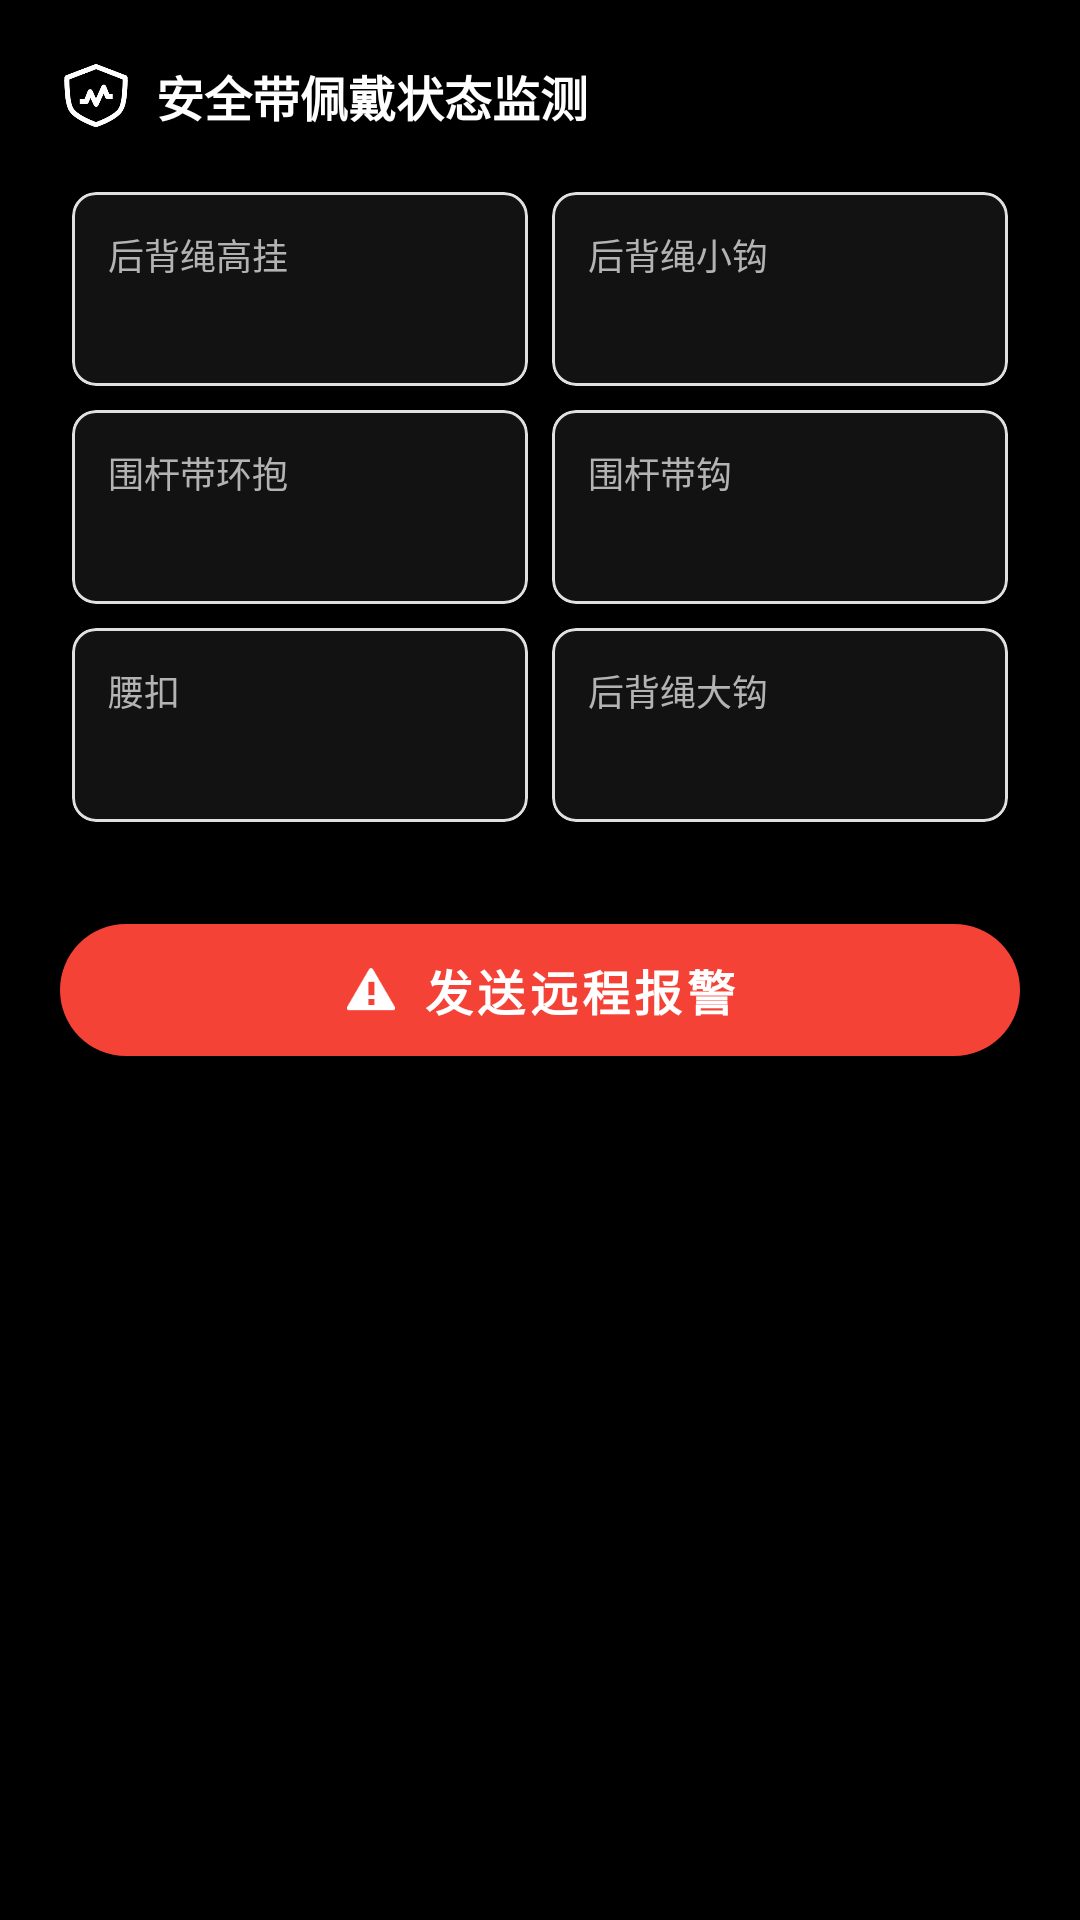

Icon click points for this 1080 × 1920 phone screenshot, format (x,y):
monitoring: (96,95)
